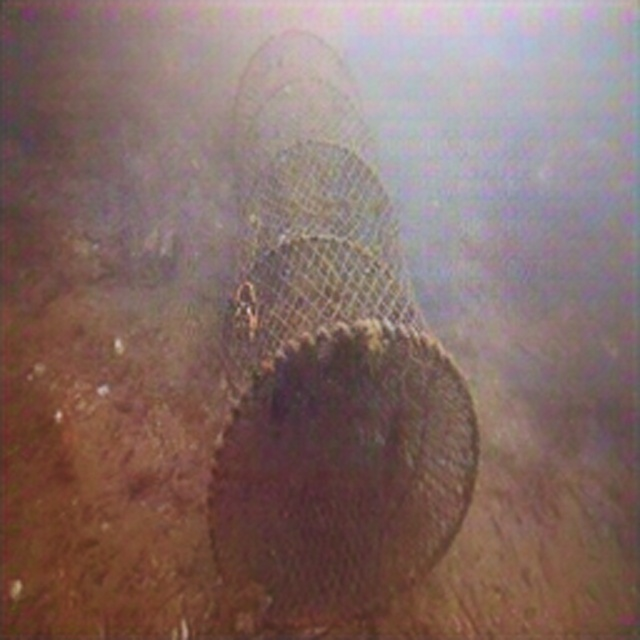mine: (204, 27, 481, 630)
